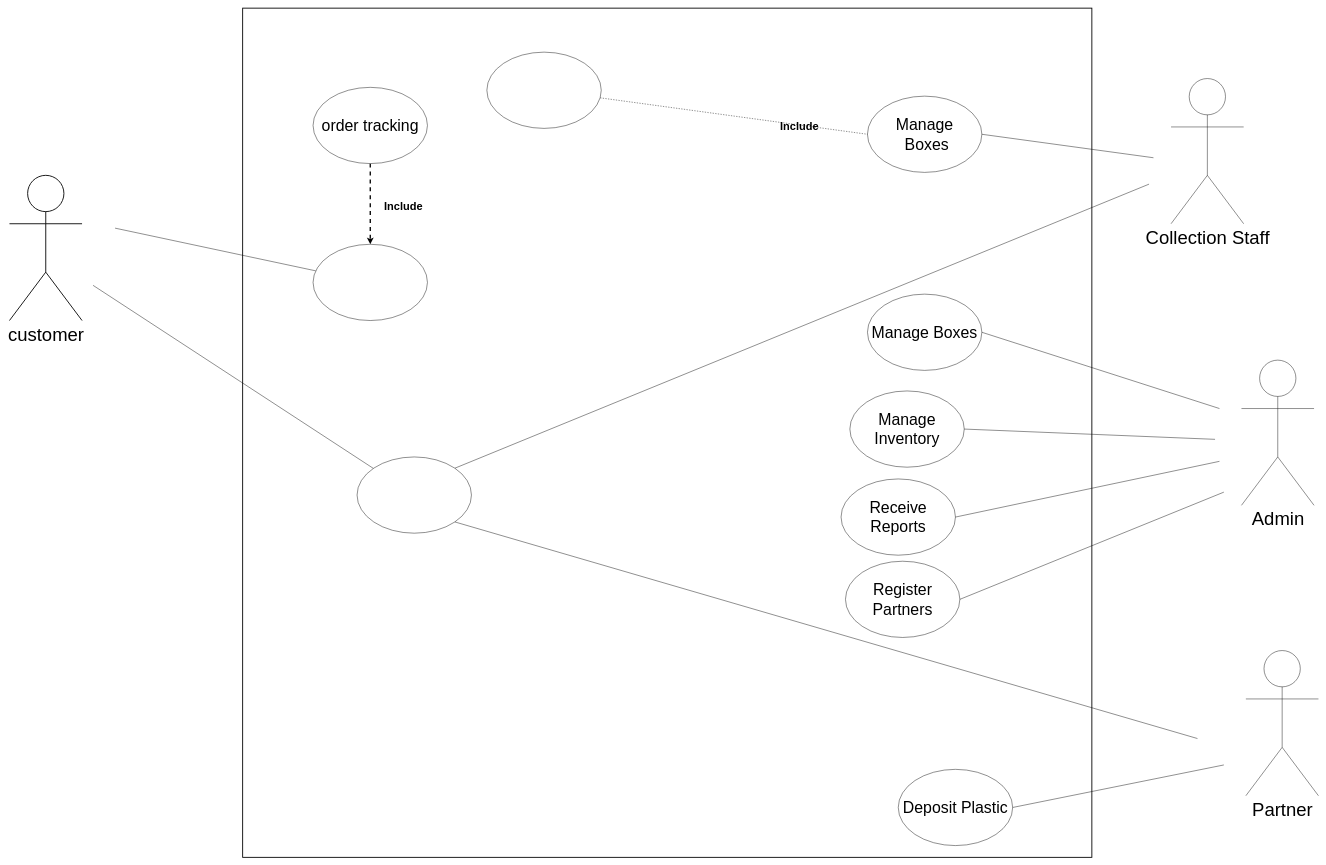
Some shapes in this 1326 by 865 pixel diagram are drawn without their labels. The box of each missing label's shape, as (x1, y1, x2, y2) in pixels:
Login: (357, 456, 471, 533)
Purchase Raw Materials: (313, 244, 427, 321)
Update Box Status: (486, 52, 601, 128)
